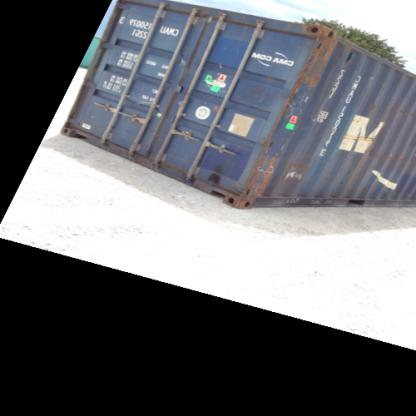Damage: (285, 30, 329, 113), (242, 137, 276, 203), (353, 95, 414, 124), (299, 186, 414, 201), (378, 150, 415, 171), (202, 159, 226, 187), (343, 130, 378, 147), (282, 158, 308, 179), (79, 110, 99, 131), (214, 55, 227, 74), (176, 50, 189, 68)
